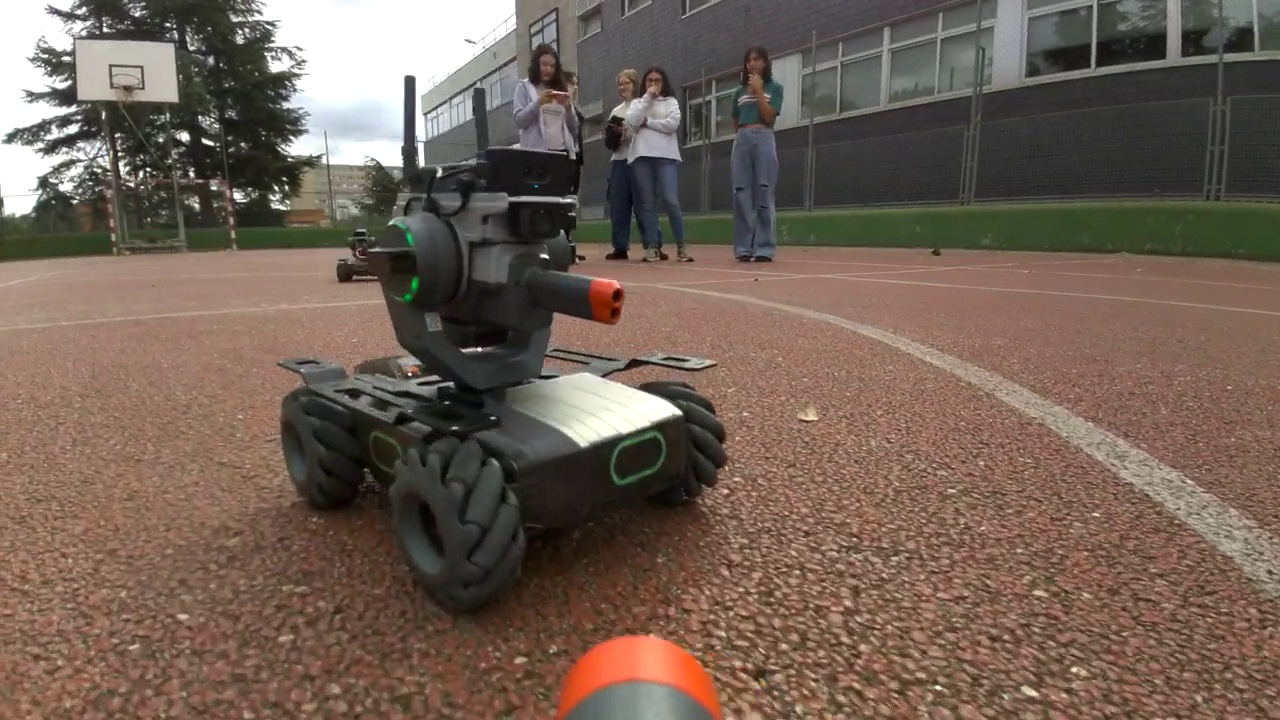robot: (282, 147, 729, 614)
